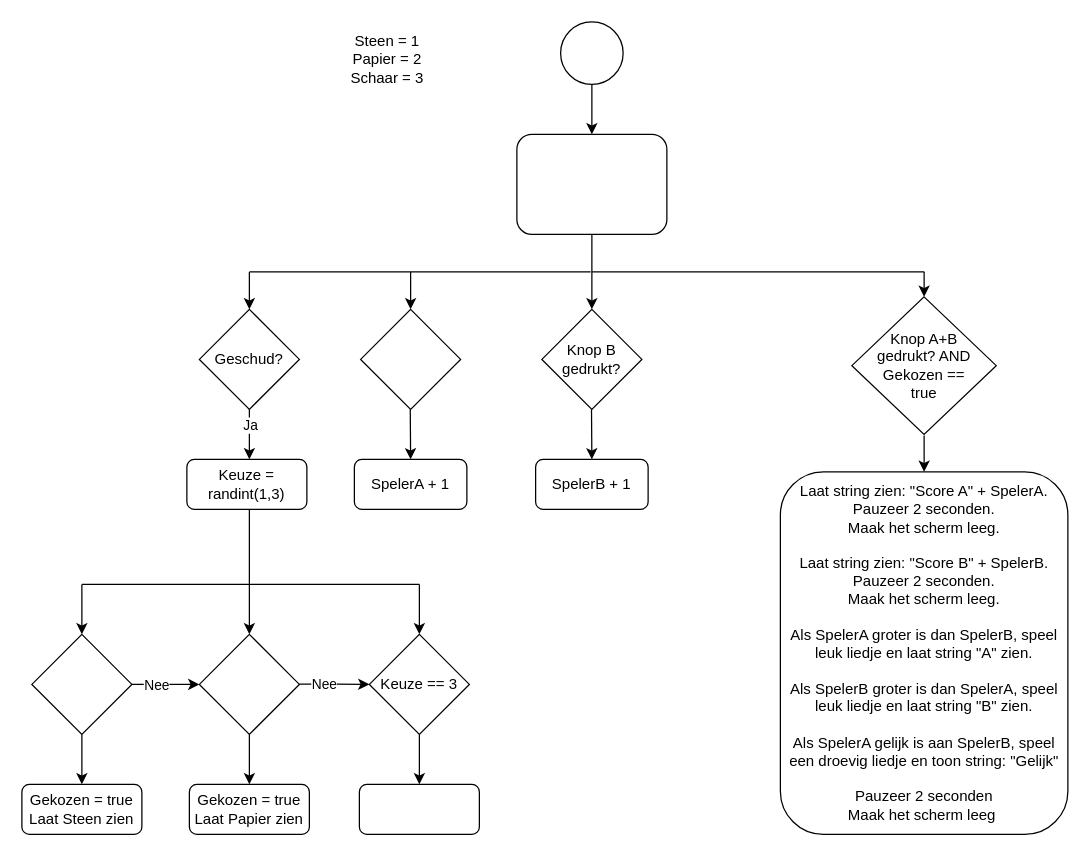
Some shapes in this 1090 by 856 pixel diagram are drawn without their labels. Here are the shapes that lost their labels. From the top down, the box of each, then its label:
(516, 133, 667, 234): Gekozen = false Keuze = 0 SpelerA = 0 Speler B = 0
(359, 308, 461, 409): Knop A gedrukt?
(31, 633, 132, 734): Keuze == 1
(198, 633, 299, 734): Keuze == 2
(358, 783, 479, 834): Gekozen = true Laat Schaar zien
